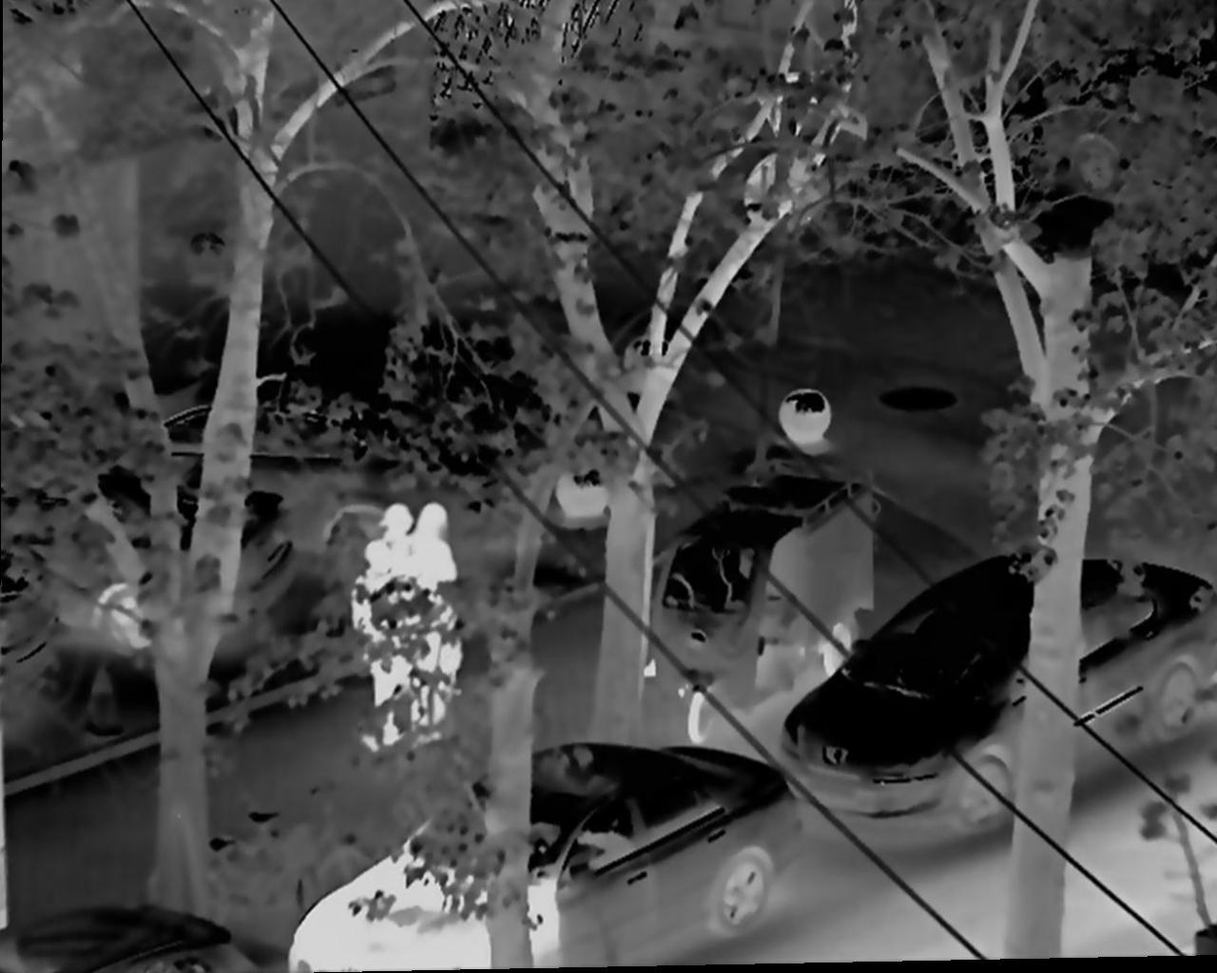person: (403, 498, 465, 751), (356, 509, 409, 755)
